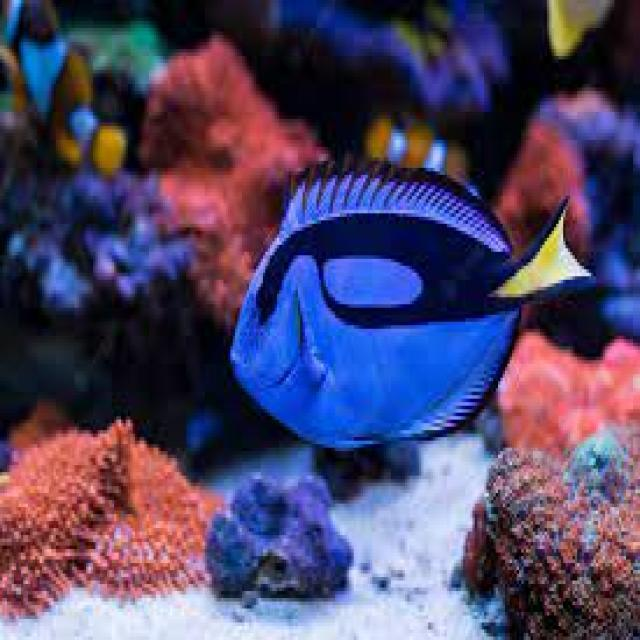TangFish: (228, 156, 592, 450)
